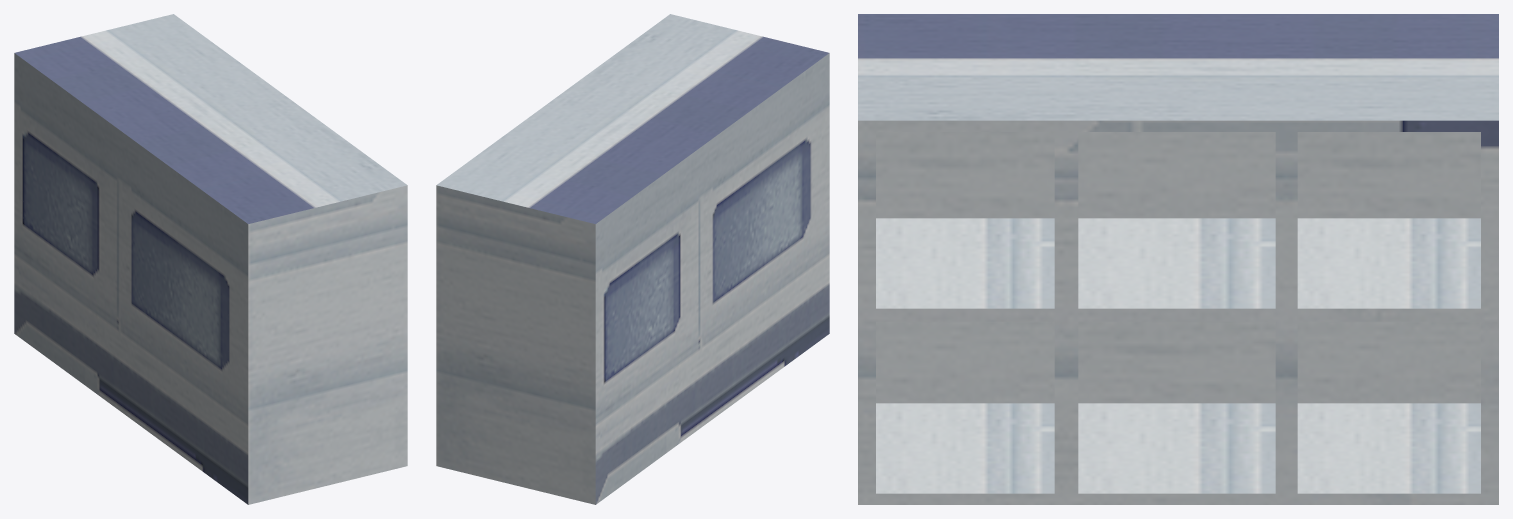
File: Cube Shelf Empty.fbx
3 renders of one model, left to right at view 1: azimuth 30°, elevation 25°; view 2: azimuth 150°, elevation 25°; view 3: azimuth 270°, elevation 25°, orthographic. The views are drawn at different scales.
Parts seen in each view (by area): view 1: Cube Shelf; view 2: Cube Shelf; view 3: Cube Shelf.
Boxes of the visible parts, <box> form: Cube Shelf: <box>14,14,407,504</box>; Cube Shelf: <box>436,14,829,504</box>; Cube Shelf: <box>858,14,1498,504</box>.
Size of the model in its own units: 131 by 221 by 333.
